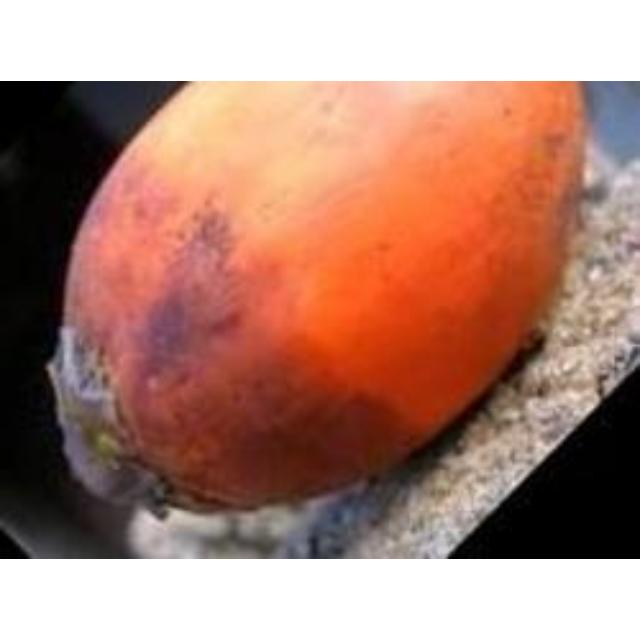good: (46, 81, 586, 526)
